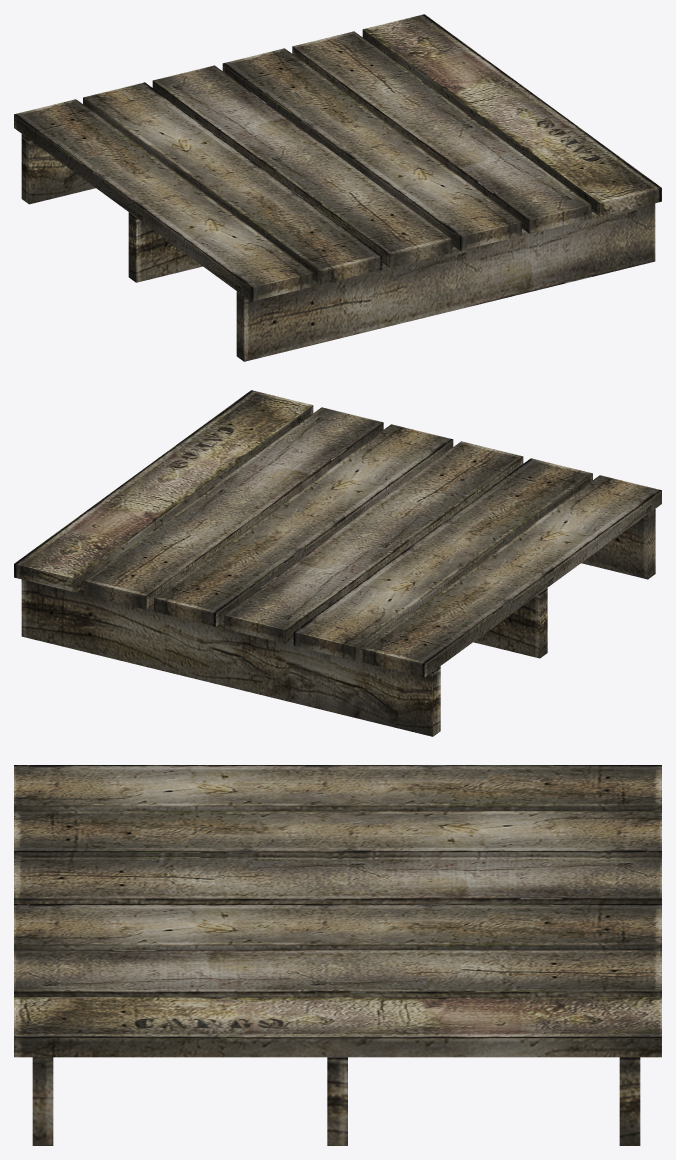
The model's file is CargoWood01.fbx.
3 views of the same model, one above another, from view 1: azimuth 30°, elevation 25°; view 2: azimuth 150°, elevation 25°; view 3: azimuth 270°, elevation 25° (orthographic). The views are drawn at different scales.
Visible parts, largest first — view 1: CargoWood01; view 2: CargoWood01; view 3: CargoWood01.
Part boxes in pixels (left/top/right/bottom): CargoWood01: left=14, top=14, right=661, bottom=361; CargoWood01: left=14, top=390, right=661, bottom=736; CargoWood01: left=14, top=765, right=661, bottom=1145.
Size of the model in its own units: 52.7 by 9.63 by 52.7.
